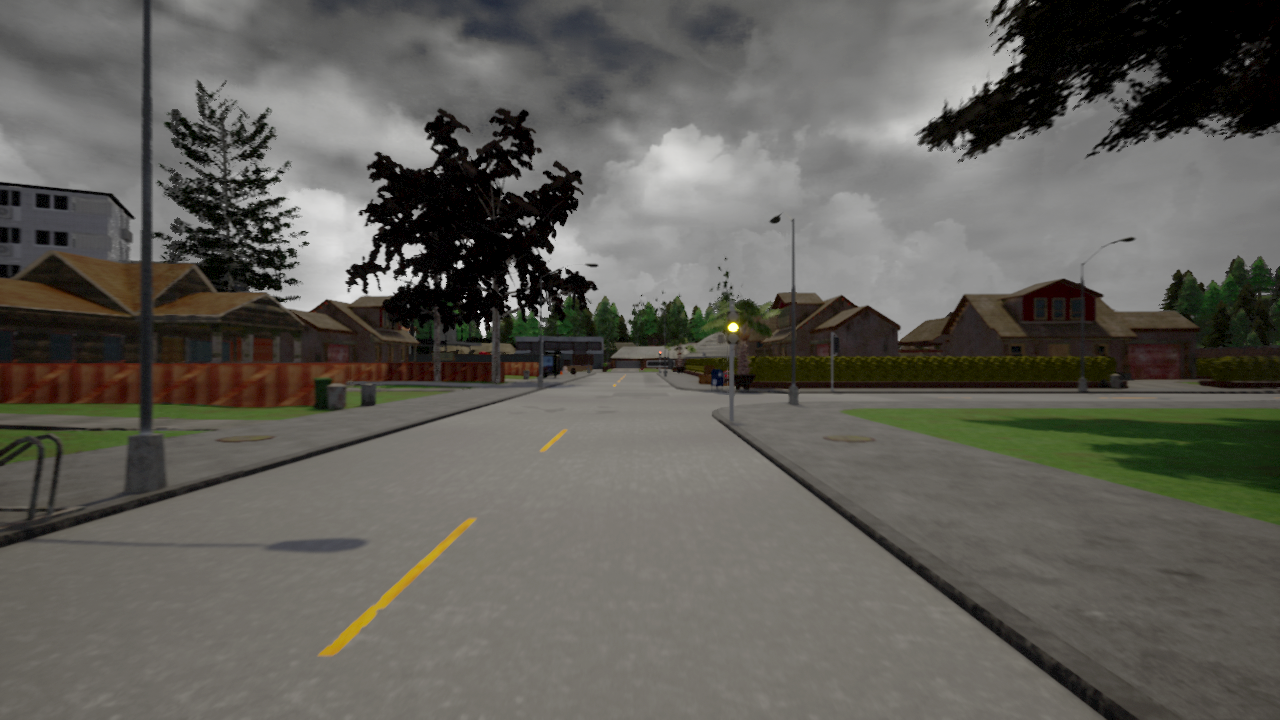yellow: (725, 310, 739, 347)
